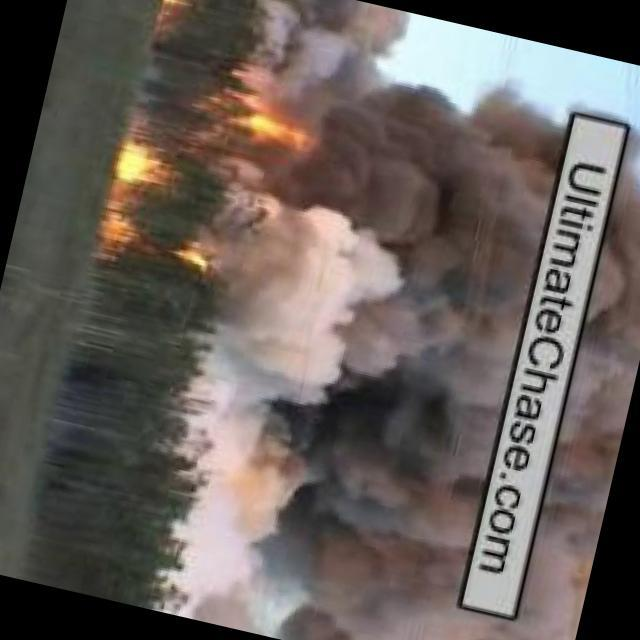Fire: (100, 198, 228, 281), (231, 106, 322, 158), (112, 144, 188, 195), (161, 1, 199, 12)
